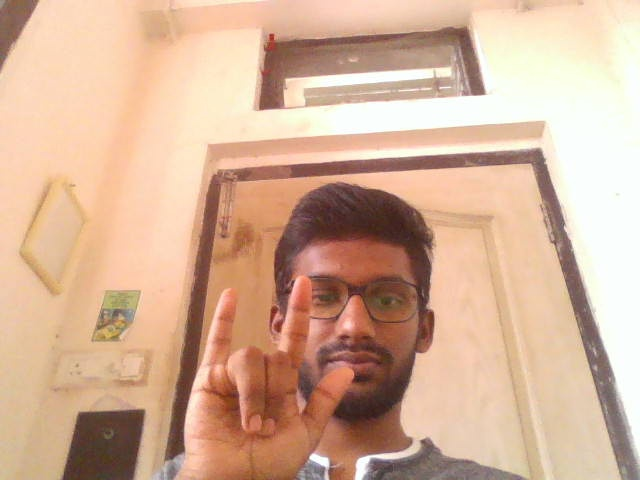I Love You: (173, 269, 359, 480)
